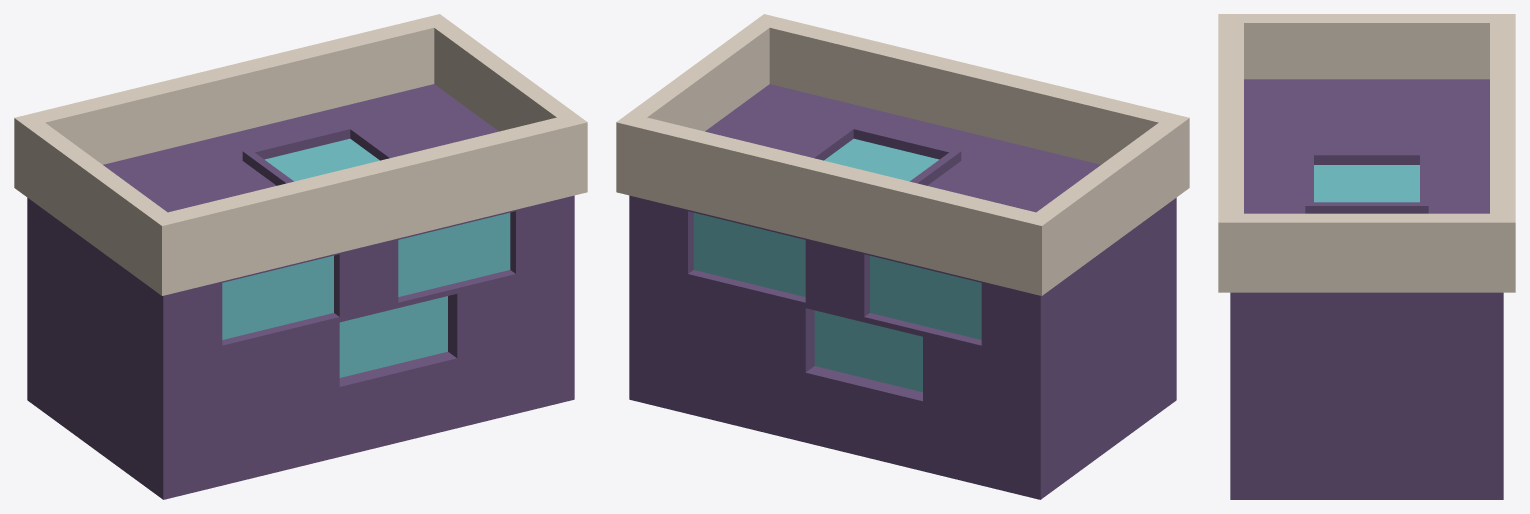
File: house_9.fbx
The picture shows the model from 3 angles, left to right: view 1: azimuth 30°, elevation 25°; view 2: azimuth 150°, elevation 25°; view 3: azimuth 270°, elevation 25°; orthographic projection.
Parts seen in each view (by area): view 1: polySurface1878; view 2: polySurface1878; view 3: polySurface1878.
Part boxes in pixels (x1,y1,x2,y2): polySurface1878: (14, 14, 587, 499); polySurface1878: (616, 14, 1189, 499); polySurface1878: (1218, 14, 1515, 499).
Size of the model in its own units: 27.4 by 16.49 by 17.21.
